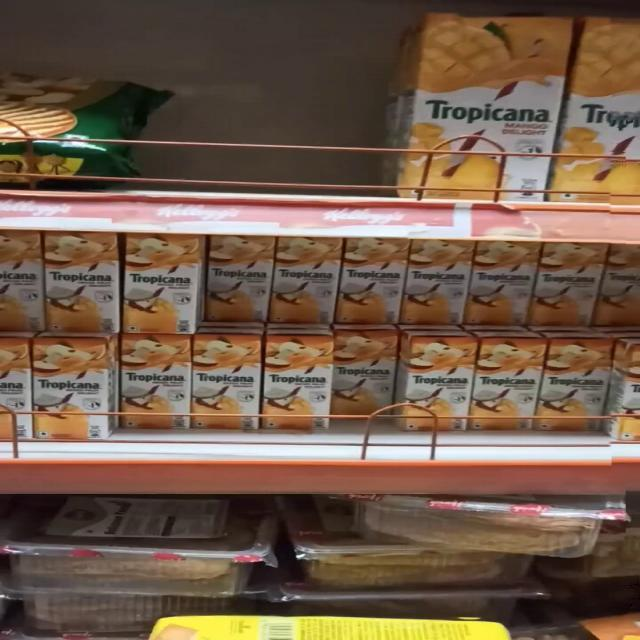Tropicana: (386, 8, 558, 211), (119, 233, 203, 336), (36, 235, 118, 331), (20, 339, 101, 436), (266, 229, 338, 329), (202, 233, 276, 325), (258, 341, 330, 429), (114, 336, 185, 425), (188, 340, 260, 423), (405, 241, 473, 328), (405, 344, 475, 428), (546, 344, 612, 432), (474, 342, 542, 425), (343, 239, 405, 329), (480, 243, 542, 331), (538, 245, 596, 331), (336, 337, 391, 419)
